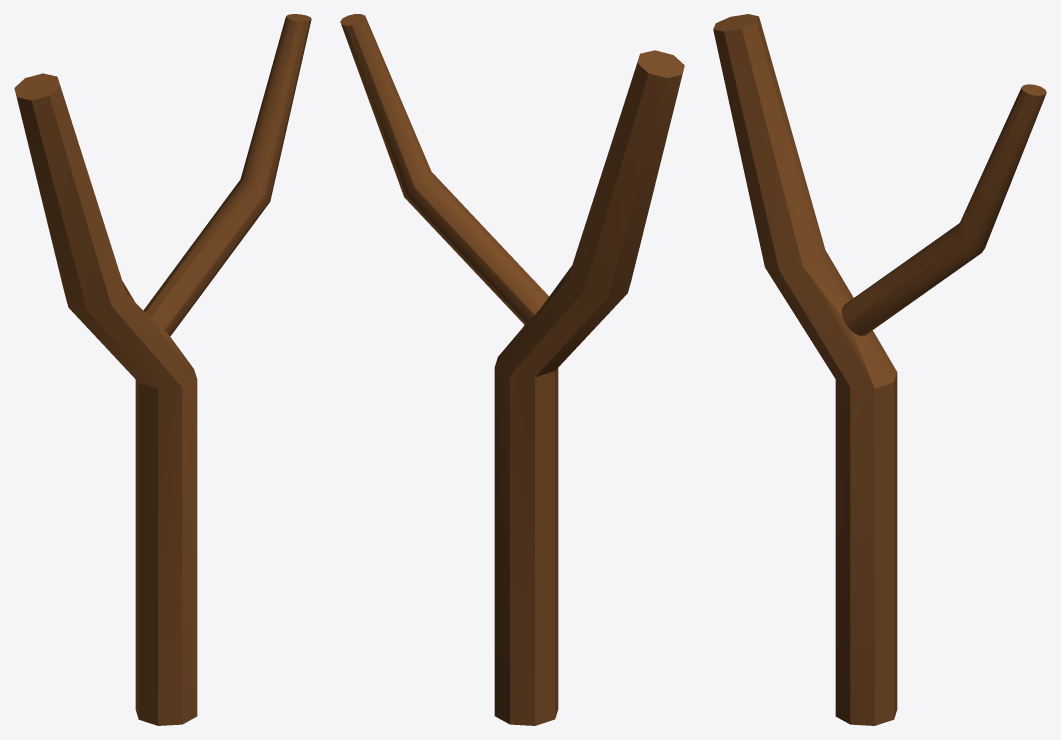
Rendered from Stick.fbx.
3 views of the same model, side by side, from view 1: azimuth 30°, elevation 25°; view 2: azimuth 150°, elevation 25°; view 3: azimuth 330°, elevation 25° (orthographic). The views are drawn at different scales.
Visible parts, largest first — view 1: Stick; view 2: Stick; view 3: Stick.
Part boxes in pixels (x1,y1,x2,y2): Stick: (14, 14, 311, 725); Stick: (340, 14, 684, 725); Stick: (713, 14, 1046, 725).
Size of the model in its own units: 181 by 370 by 40.36.
